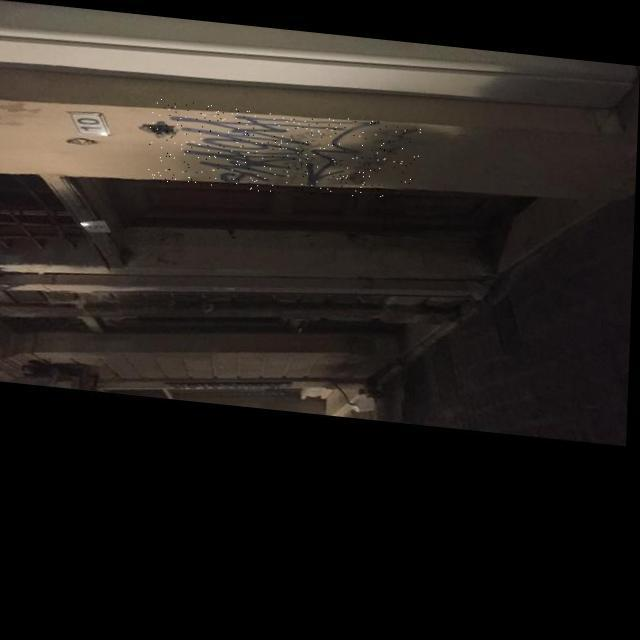-: (148, 94, 386, 196), (351, 113, 422, 183)
